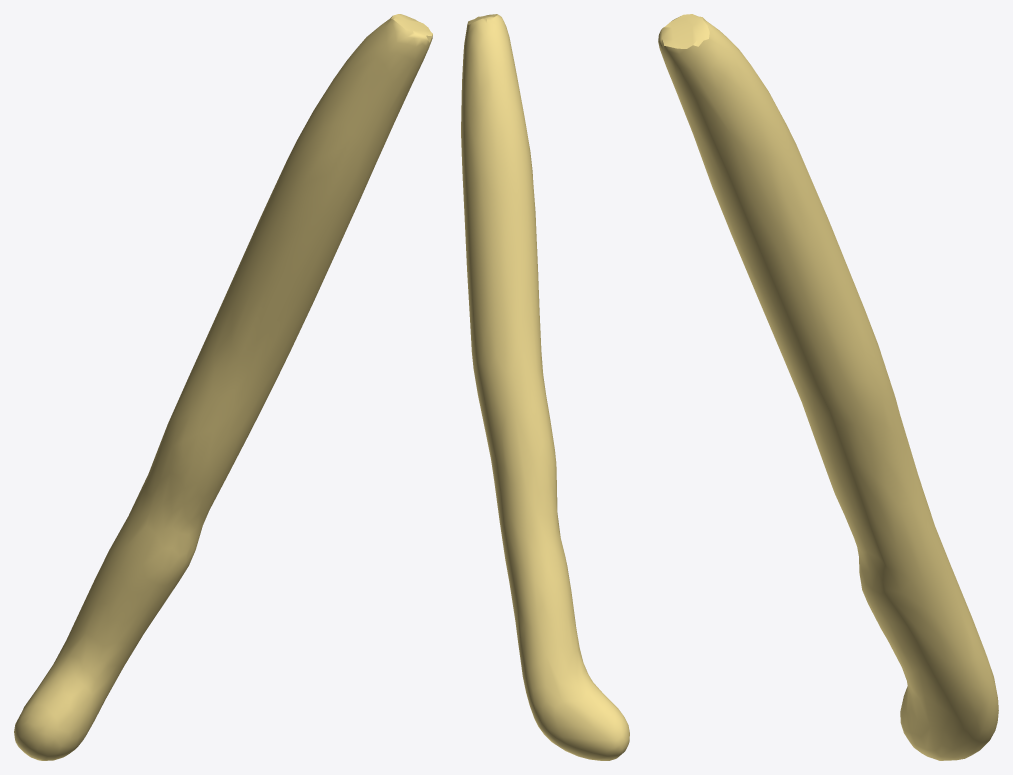
The model's file is fma223405_mm2615.glb.
The picture shows the model from 3 angles, left to right: view 1: azimuth 30°, elevation 25°; view 2: azimuth 150°, elevation 25°; view 3: azimuth 270°, elevation 25°; orthographic projection. The views are drawn at different scales.
Visible parts, largest first — view 1: FMA223405_MM2615; view 2: FMA223405_MM2615; view 3: FMA223405_MM2615.
Part boxes in pixels (x1,y1,x2,y2): FMA223405_MM2615: (14, 14, 432, 760); FMA223405_MM2615: (461, 14, 629, 760); FMA223405_MM2615: (658, 14, 998, 760).
Bounding box in the file's own units: 0.0065 × 0.0157 × 0.00556.
